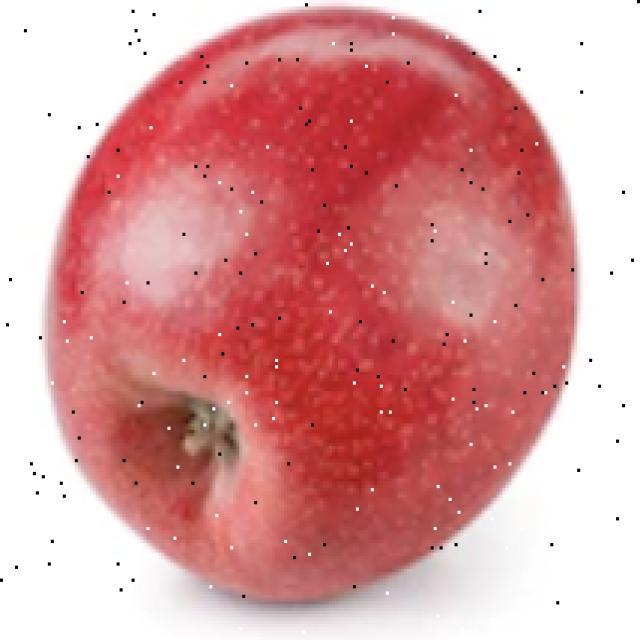Fresh Apple: (47, 19, 570, 594)
